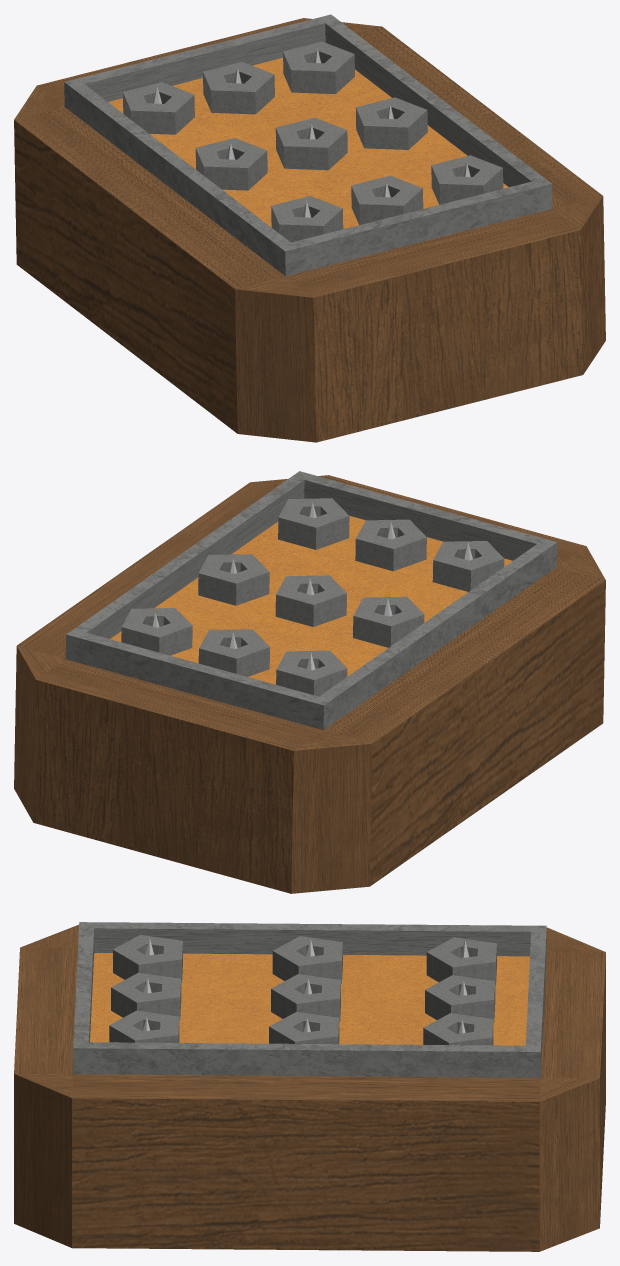
The model's file is groundtrap_1_spikes.fbx.
3 views of the same model, one above another, from view 1: azimuth 30°, elevation 25°; view 2: azimuth 150°, elevation 25°; view 3: azimuth 270°, elevation 25° (orthographic). The views are drawn at different scales.
Visible parts, largest first — view 1: Tube; view 2: Tube; view 3: Tube.
Boxes of the visible parts, <box> form: Tube: <box>14,14,605,442</box>; Tube: <box>14,471,605,893</box>; Tube: <box>14,922,605,1251</box>.
Size of the model in its own units: 147 by 77.5 by 197.
2 materials, 1 textured.
